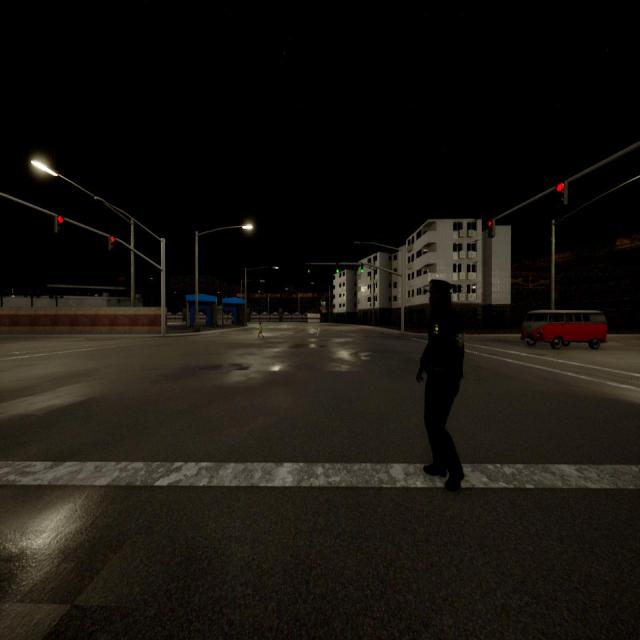Pedestrian: (416, 279, 464, 491), (258, 322, 264, 338)
Vehicle: (522, 310, 606, 349)
traffic_light: (557, 182, 567, 205), (55, 217, 63, 232), (488, 220, 495, 237), (109, 237, 114, 250), (336, 263, 339, 273), (308, 263, 310, 273), (361, 264, 363, 273)
